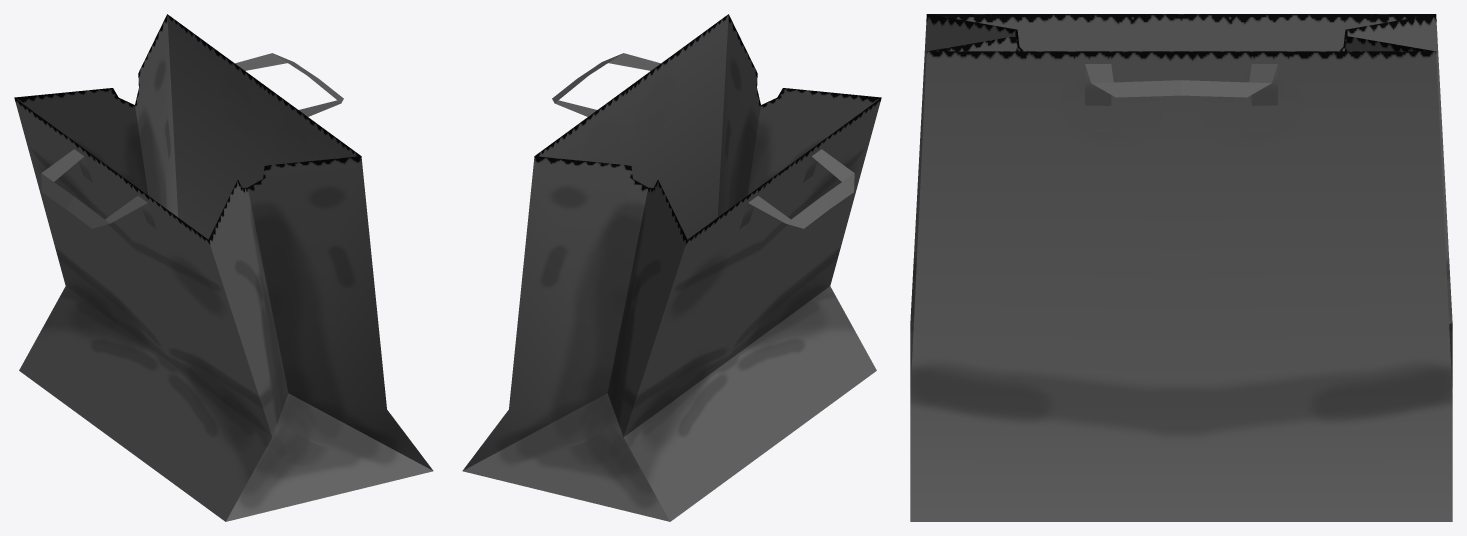
File: obj_GroceryBag.fbx
3 views of the same model, side by side, from view 1: azimuth 30°, elevation 25°; view 2: azimuth 150°, elevation 25°; view 3: azimuth 270°, elevation 25° (orthographic). The views are drawn at different scales.
Visible parts, largest first — view 1: obj_GroceryBag; view 2: obj_GroceryBag; view 3: obj_GroceryBag.
Part boxes in pixels (box(x1,y1,x2,y2)): obj_GroceryBag: box(14, 14, 433, 521); obj_GroceryBag: box(462, 14, 881, 521); obj_GroceryBag: box(910, 14, 1452, 521).
Size of the model in its own units: 0.3087 by 0.3648 by 0.4185.
1 material, 1 textured.
